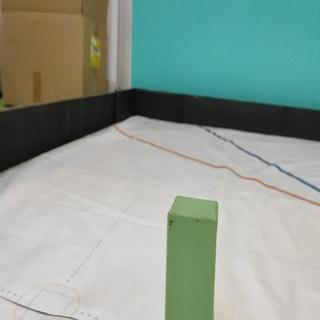greenbox: (165, 193, 220, 320)
